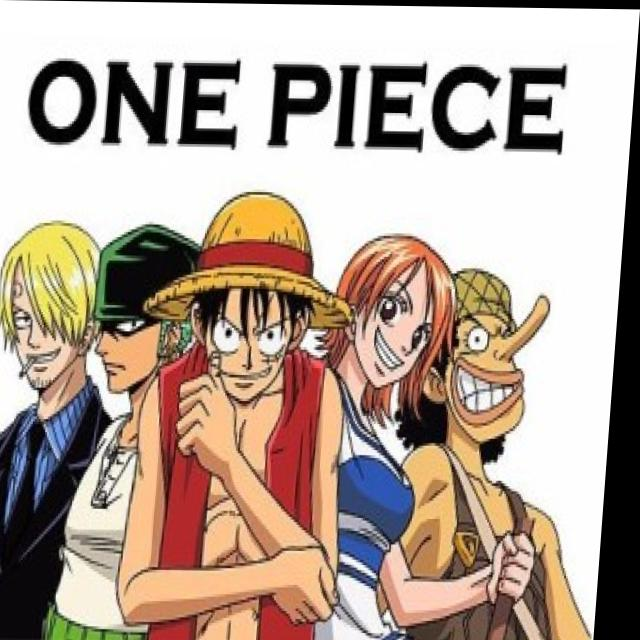Luffy: (180, 169, 330, 413)
Nami: (319, 223, 463, 407)
Sangdi: (0, 199, 118, 413)
Usopp: (438, 229, 566, 455)
Zoro: (87, 216, 212, 412)
